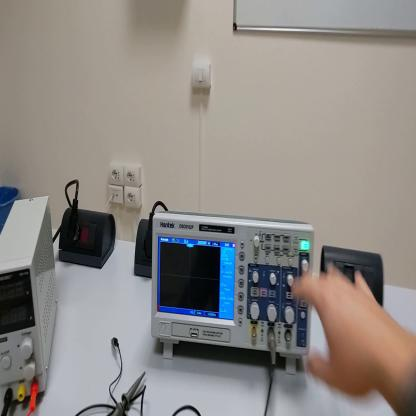hand: (294, 261, 394, 398)
oscilloscope: (151, 211, 319, 378)
oscilloscope probe tip: (113, 373, 146, 416)
power supply: (1, 198, 60, 403)
socket: (59, 207, 117, 271), (134, 216, 152, 280)
